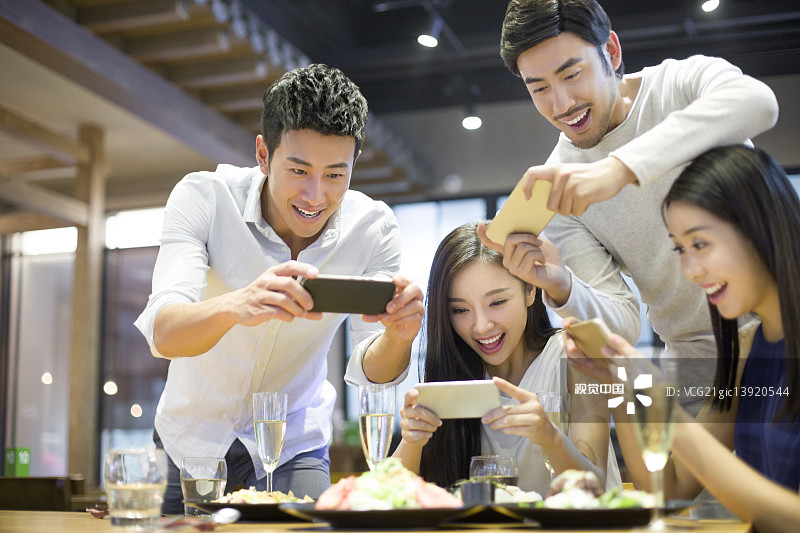taking photos: (469, 147, 631, 303), (226, 247, 432, 347), (390, 372, 562, 452)
